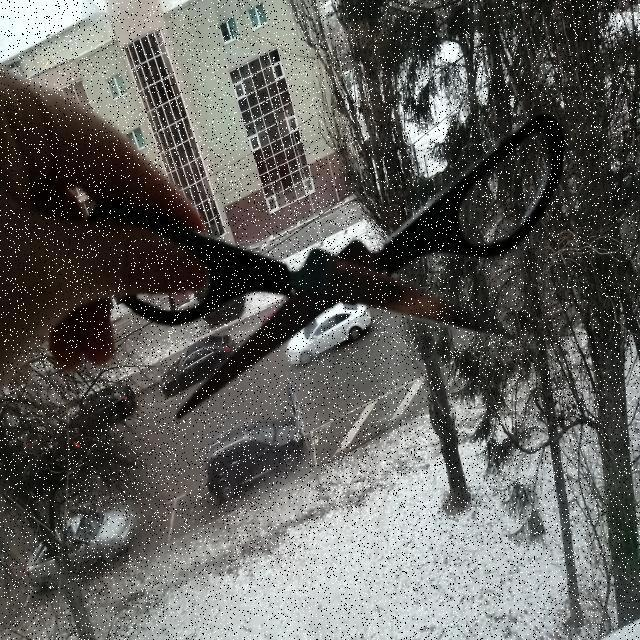scissors: (91, 107, 575, 430)
